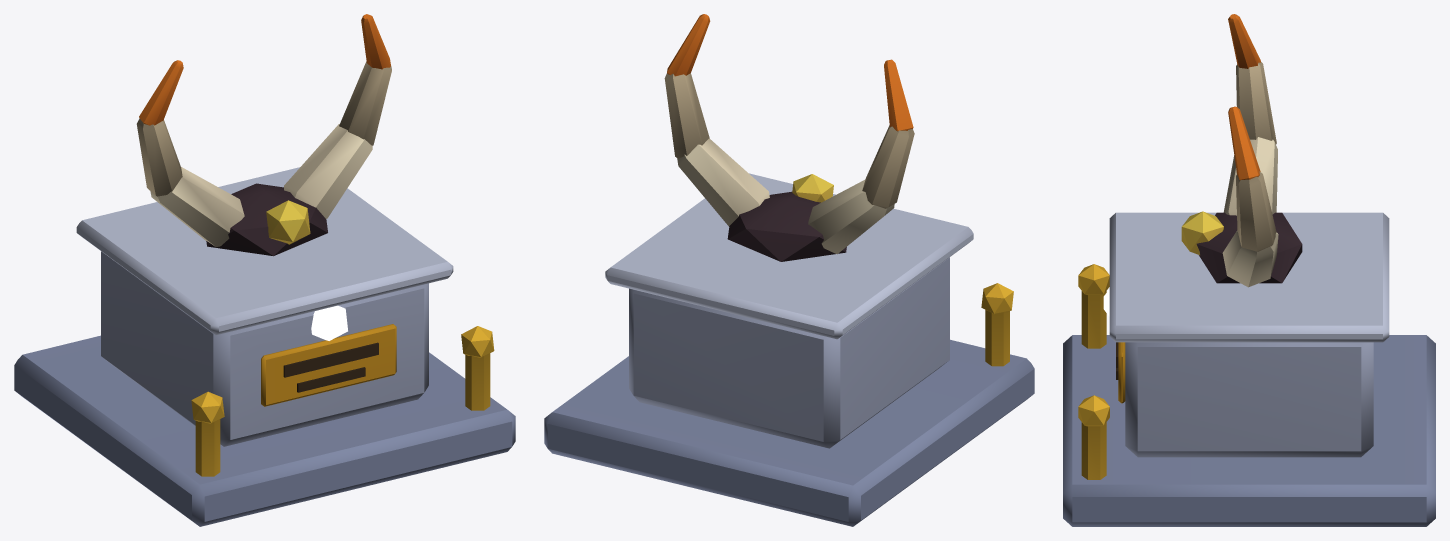
File: b_trophy_koenig.glb
The picture shows the model from 3 angles, left to right: view 1: azimuth 30°, elevation 25°; view 2: azimuth 150°, elevation 25°; view 3: azimuth 270°, elevation 25°; orthographic projection. The views are drawn at different scales.
Visible parts, largest first — view 1: body, pulse_gem_glow; view 2: body; view 3: body.
Boxes of the visible parts, left/top/right/bottom form: body: left=14, top=14, right=515, bottom=526; pulse_gem_glow: left=311, top=305, right=347, bottom=340; body: left=544, top=14, right=1034, bottom=526; body: left=1063, top=14, right=1435, bottom=526.
Size of the model in its own units: 2.4 by 2.78 by 2.4.
